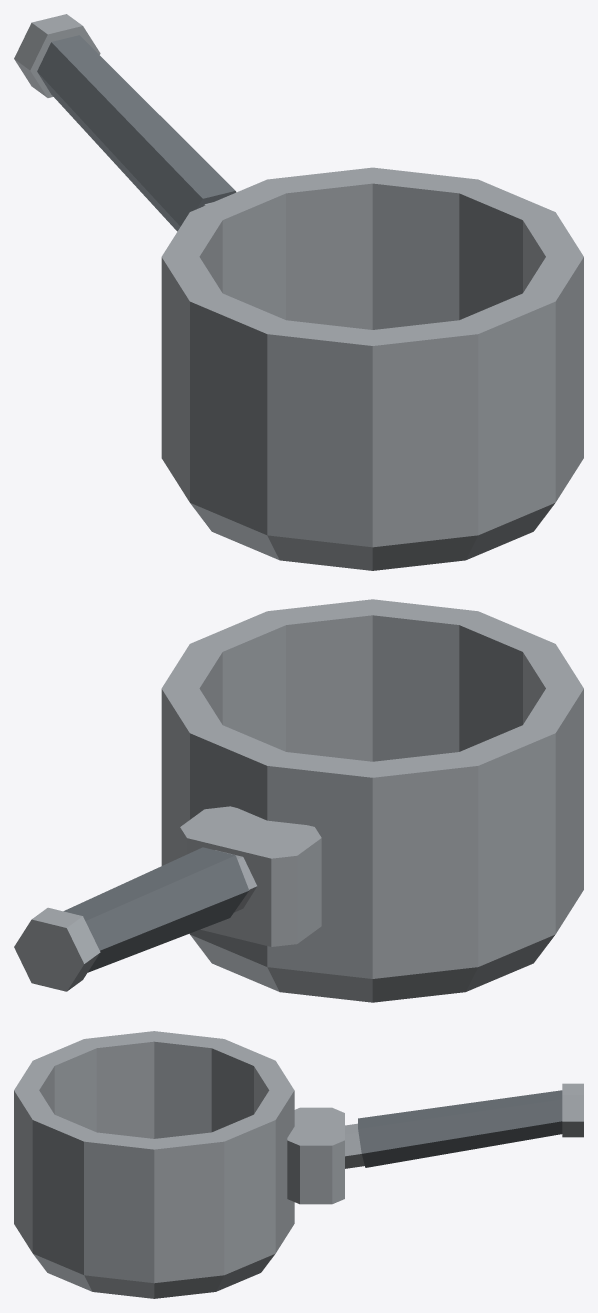
File: SM_LPI_Ware_Saucepan_01.fbx
3 renders of one model, top to bottom at view 1: azimuth 30°, elevation 25°; view 2: azimuth 150°, elevation 25°; view 3: azimuth 270°, elevation 25°, orthographic. The views are drawn at different scales.
Visible parts, largest first — view 1: SM_LPI_Ware_Saucepan_01; view 2: SM_LPI_Ware_Saucepan_01; view 3: SM_LPI_Ware_Saucepan_01.
Part boxes in pixels (x1,y1,x2,y2): SM_LPI_Ware_Saucepan_01: [14, 14, 583, 570]; SM_LPI_Ware_Saucepan_01: [14, 599, 583, 1002]; SM_LPI_Ware_Saucepan_01: [14, 1031, 583, 1298].
Size of the model in its own units: 0.156 by 0.0967 by 0.317.
